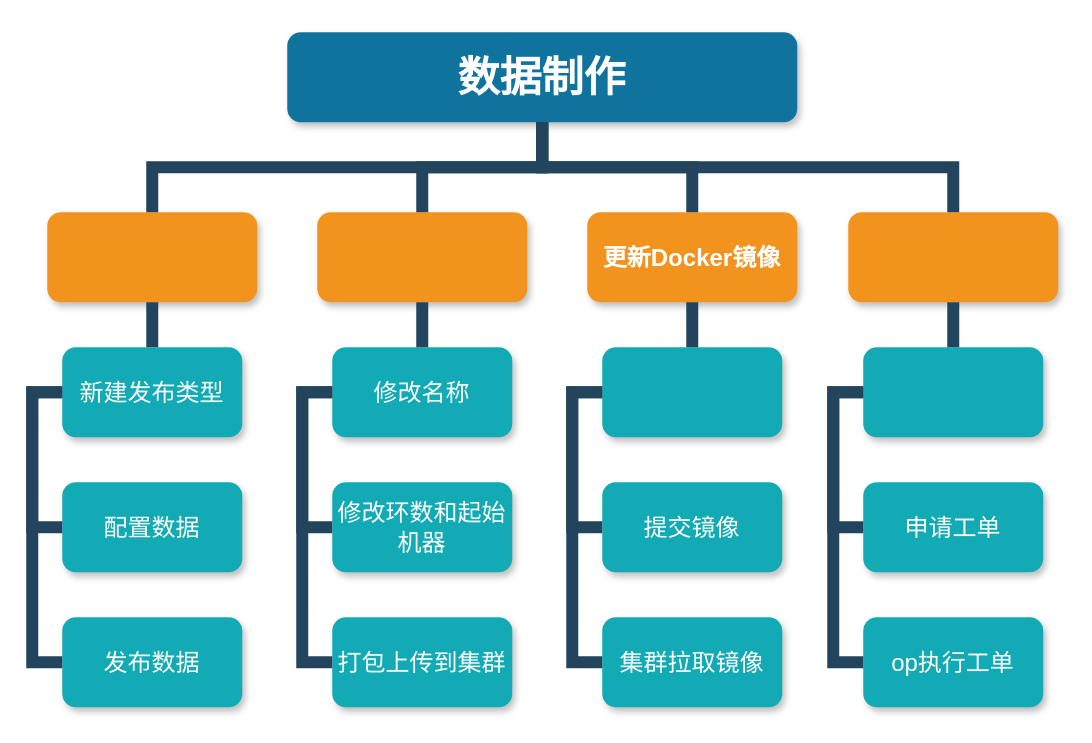
Some shapes in this 1092 by 743 pixel diagram are drawn without their labels. The centre of each missing label's shape, as x and y in pixels:
"修改启动脚本" belongs at (x=423, y=259).
"拉取脚本到镜像" belongs at (x=693, y=393).
"提交代码到git" belongs at (x=954, y=393).
"数据发布配置" belongs at (x=153, y=259).
"部署启动脚本" belongs at (x=954, y=259).
